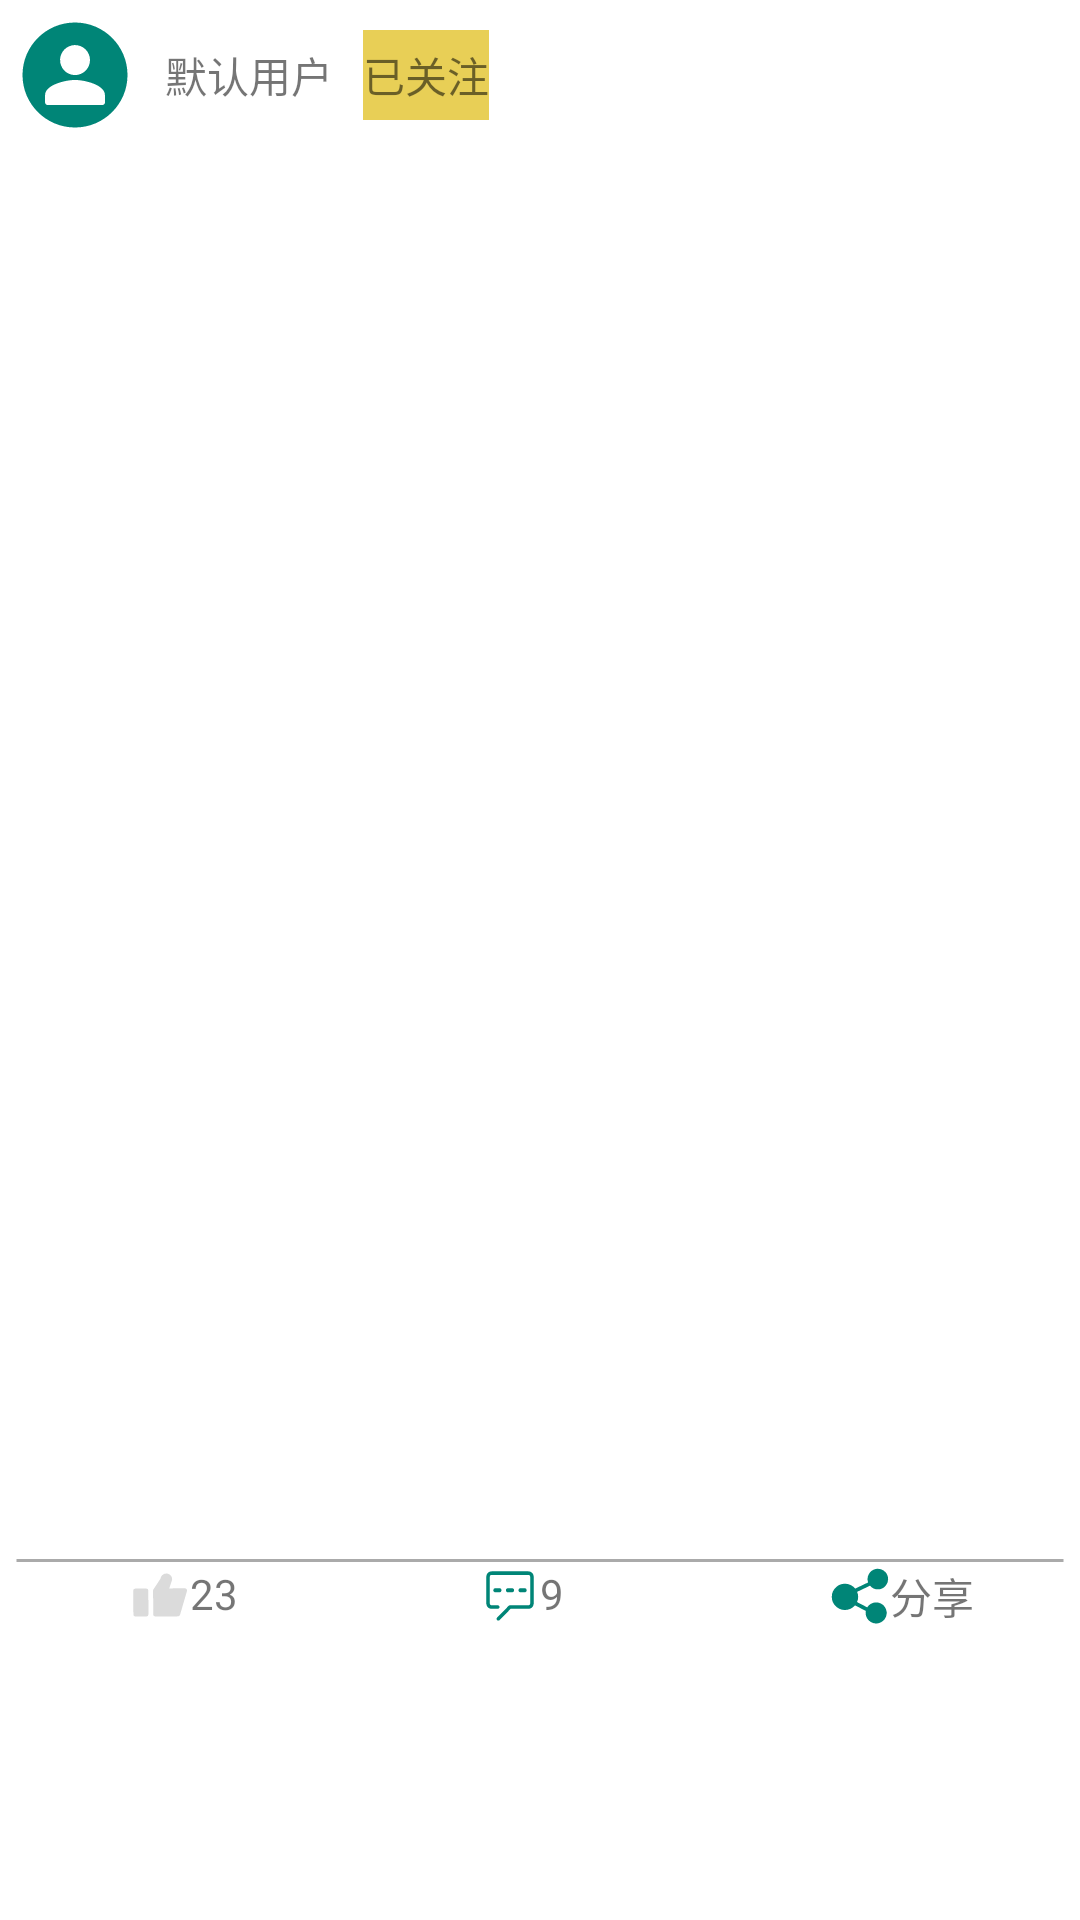

Where icons sit on this 1080 × 1920 app screen, as {"x1": x1, "y1": y1, "x2": x2, "y2": y2}:
comment: {"x1": 486, "y1": 1571, "x2": 534, "y2": 1621}
user: {"x1": 22, "y1": 22, "x2": 128, "y2": 128}
